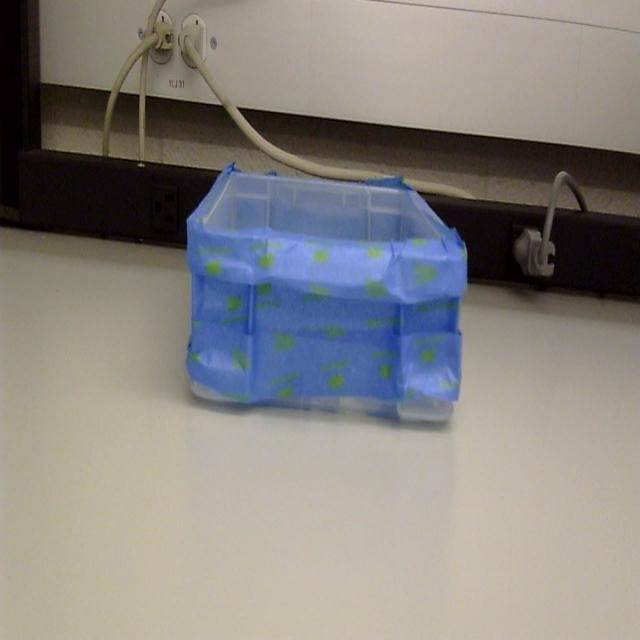bucket: (186, 166, 468, 429)
